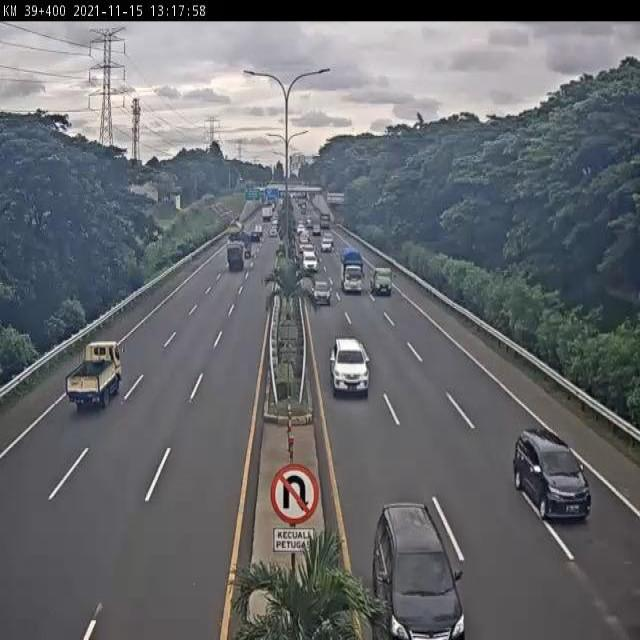car: (370, 504, 466, 640), (512, 424, 592, 520), (328, 339, 372, 397), (312, 275, 332, 308)
truck-m-: (338, 244, 362, 292), (225, 244, 242, 277)
truck-s-: (65, 338, 123, 414), (370, 266, 393, 298)
